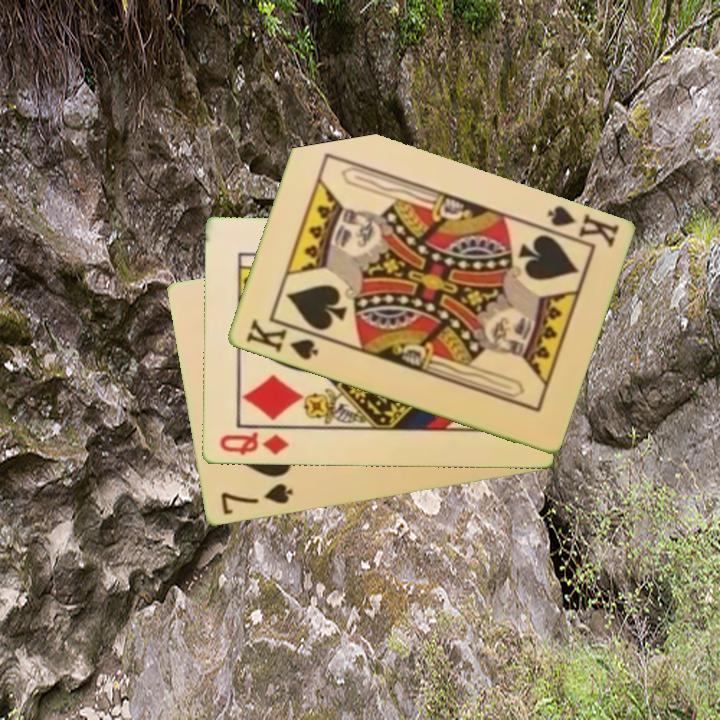7s: (217, 480, 296, 518)
Ks: (536, 202, 622, 251), (242, 315, 321, 363)
Qd: (216, 429, 292, 459)
